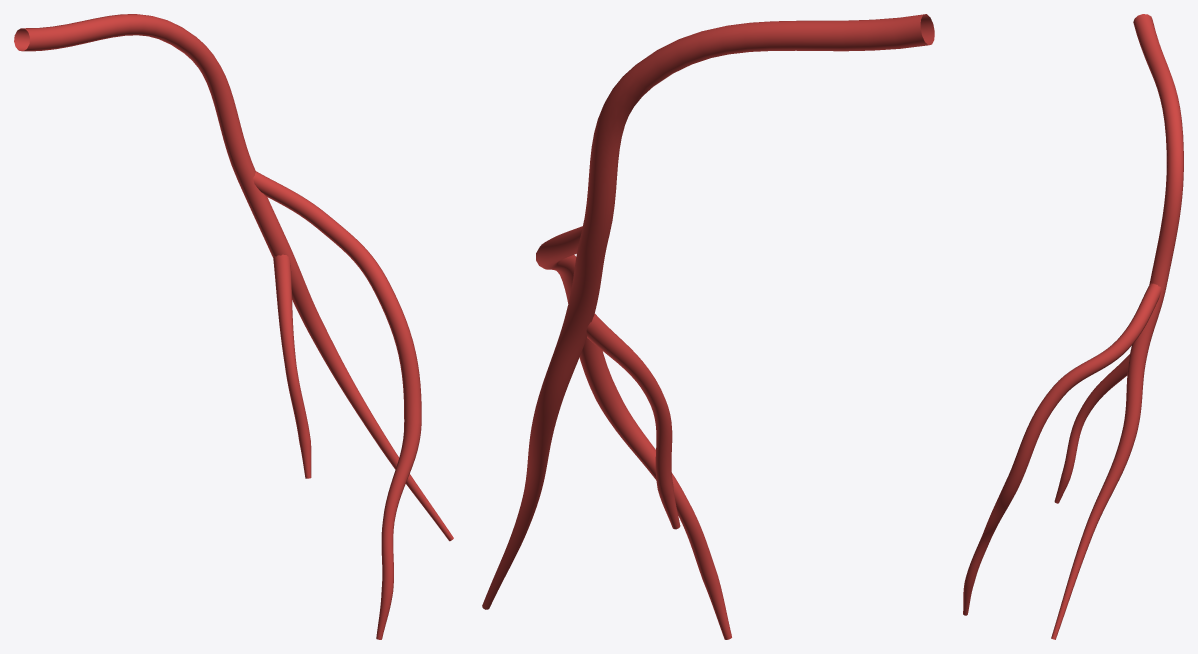
3 renders of one model, left to right at view 1: azimuth 30°, elevation 25°; view 2: azimuth 150°, elevation 25°; view 3: azimuth 270°, elevation 25°, orthographic. The views are drawn at different scales.
Visible parts, largest first — view 1: 左侧睫状后长动脉; view 2: 左侧睫状后长动脉; view 3: 左侧睫状后长动脉.
Boxes of the visible parts, bbox=[...] form: 左侧睫状后长动脉: bbox=[14, 14, 453, 639]; 左侧睫状后长动脉: bbox=[482, 14, 934, 639]; 左侧睫状后长动脉: bbox=[963, 14, 1183, 639].
Size of the model in its own units: 0.0221 by 0.0329 by 0.0132.
